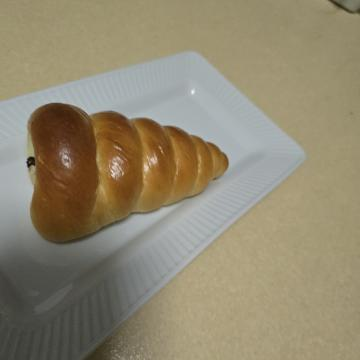cream horn: (94, 120, 252, 347)
